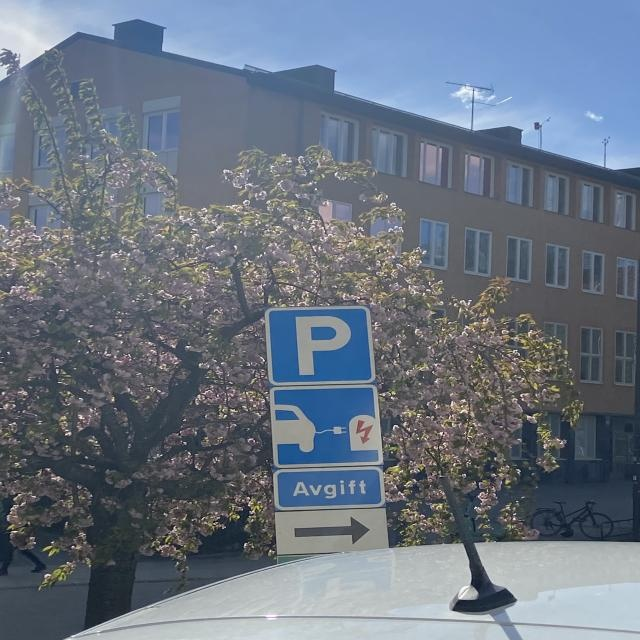P-skylt: (266, 307, 375, 383)
